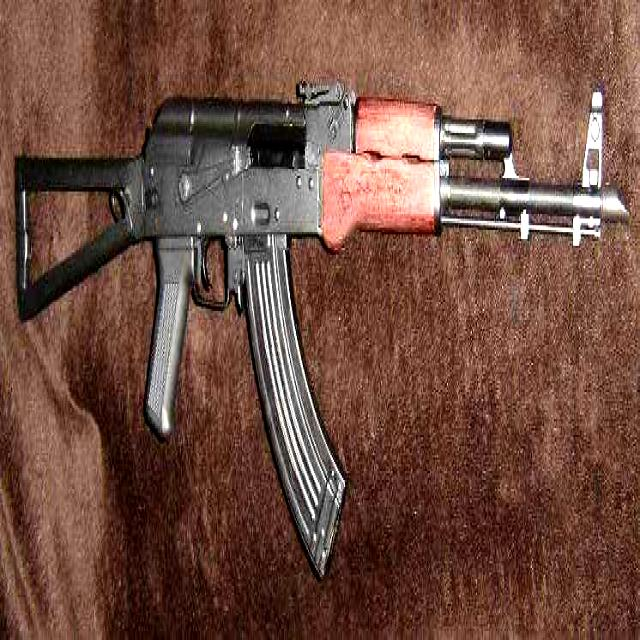ak: (9, 76, 630, 584)
